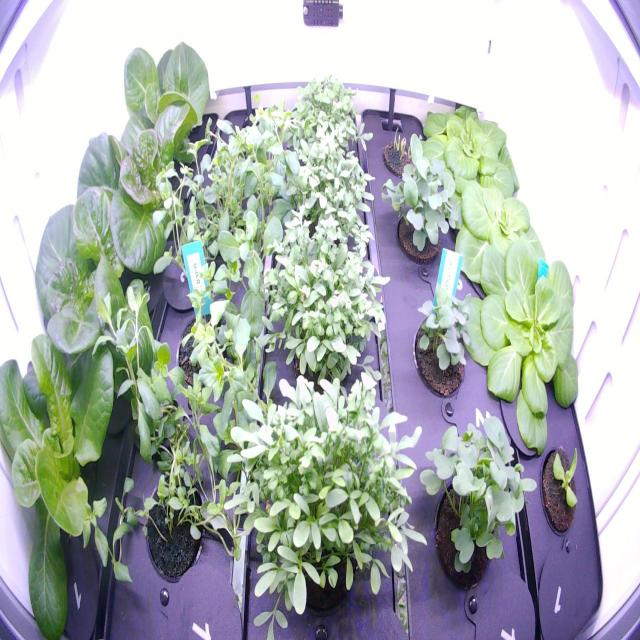germination: (411, 283, 481, 404)
young: (18, 132, 185, 439), (0, 322, 156, 637), (452, 221, 590, 463), (73, 82, 211, 272), (408, 84, 528, 218), (116, 24, 217, 168), (442, 166, 549, 298), (534, 436, 592, 544)
